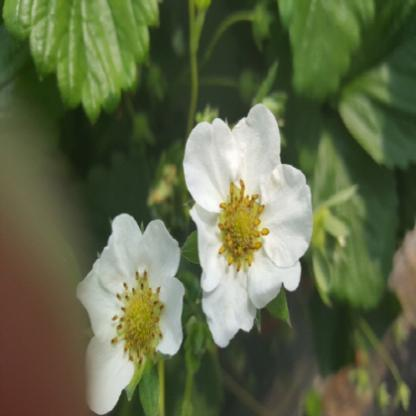Strawberry_Blossom_Blight: (106, 268, 170, 367)
